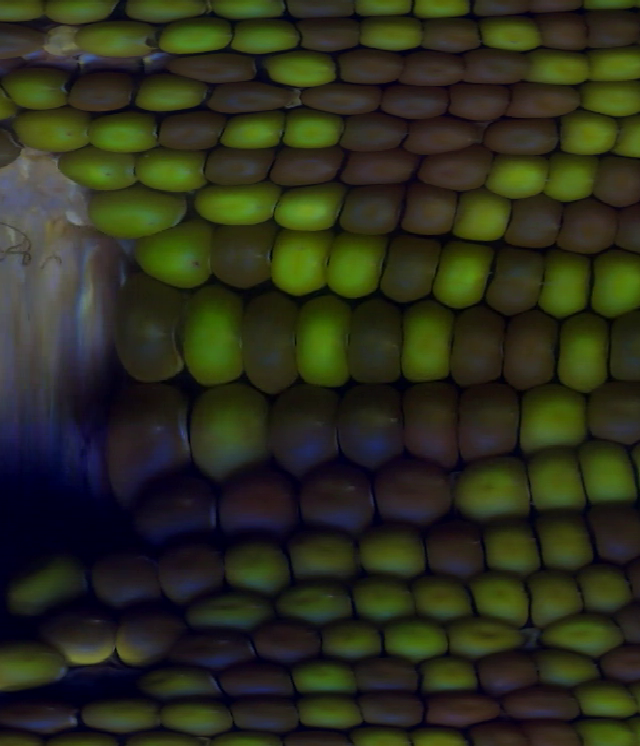fluorescent: (189, 389, 269, 469), (5, 552, 84, 618), (181, 294, 239, 382), (139, 223, 211, 292), (514, 382, 588, 442), (301, 295, 347, 389), (249, 39, 333, 89), (455, 459, 527, 517), (572, 440, 636, 505), (82, 191, 186, 230), (324, 233, 389, 295), (527, 450, 586, 516), (270, 229, 326, 294), (537, 247, 589, 317), (450, 611, 528, 656), (405, 305, 452, 379), (227, 547, 299, 594), (82, 18, 160, 60), (195, 187, 276, 227), (139, 147, 205, 195), (363, 537, 444, 576), (556, 317, 601, 387), (53, 152, 131, 192), (542, 614, 624, 652), (13, 116, 91, 155), (453, 192, 513, 242), (275, 184, 340, 230), (157, 14, 228, 56), (482, 521, 539, 573), (270, 592, 350, 629), (527, 568, 582, 621), (469, 571, 531, 618), (0, 647, 69, 689), (594, 256, 640, 318), (536, 523, 599, 568), (347, 578, 411, 621), (191, 597, 272, 630), (160, 694, 231, 731), (8, 65, 65, 111), (91, 114, 153, 156), (473, 16, 543, 53), (285, 105, 340, 152), (544, 155, 595, 205), (231, 21, 298, 59), (444, 240, 481, 308), (79, 700, 160, 731), (134, 665, 217, 695), (381, 620, 449, 656), (557, 116, 615, 158), (221, 111, 285, 147), (491, 155, 546, 195), (360, 18, 428, 50), (326, 620, 386, 656), (536, 652, 591, 691), (578, 681, 639, 716), (579, 87, 640, 121), (307, 530, 360, 569), (415, 653, 473, 688), (44, 1, 112, 30), (585, 50, 640, 85), (579, 568, 627, 608), (134, 79, 192, 110), (578, 717, 640, 746), (295, 662, 356, 691), (534, 52, 588, 84), (124, 1, 209, 21), (298, 694, 357, 721), (415, 591, 463, 623), (215, 1, 286, 20), (0, 1, 47, 29), (405, 726, 457, 746), (347, 729, 407, 746)
nonfluorescent: (107, 388, 181, 478), (123, 279, 186, 379), (288, 462, 375, 530), (334, 387, 407, 468), (215, 462, 286, 540), (498, 308, 559, 395), (240, 297, 294, 392), (375, 468, 457, 530), (382, 230, 442, 305), (279, 384, 334, 460), (352, 300, 399, 384), (408, 378, 456, 460), (460, 388, 515, 459), (143, 475, 211, 531), (452, 304, 495, 385), (0, 685, 73, 731), (597, 304, 640, 381), (591, 376, 640, 443), (213, 229, 268, 288), (165, 620, 249, 658), (588, 502, 640, 562), (253, 610, 315, 660), (504, 685, 585, 723), (372, 84, 446, 124), (501, 250, 549, 311), (218, 692, 297, 729), (269, 147, 340, 187), (337, 185, 398, 231), (94, 549, 155, 594), (424, 524, 481, 572), (68, 79, 136, 118), (592, 152, 640, 207), (356, 688, 424, 726), (485, 649, 542, 694), (350, 653, 421, 689), (157, 58, 265, 81), (399, 192, 452, 237), (163, 545, 217, 589), (515, 192, 559, 245), (426, 685, 494, 718), (346, 116, 413, 149), (223, 653, 294, 684), (304, 84, 372, 116), (489, 124, 556, 156), (463, 711, 523, 746), (582, 16, 640, 52), (446, 91, 511, 123), (559, 210, 608, 252), (156, 110, 217, 143), (339, 149, 408, 178), (531, 14, 581, 52), (210, 84, 292, 107), (210, 145, 265, 179), (421, 160, 485, 189), (413, 123, 481, 149), (470, 53, 527, 84), (424, 18, 479, 49), (597, 646, 640, 682), (510, 88, 569, 114), (297, 29, 363, 52), (405, 60, 459, 88), (340, 55, 402, 76), (285, 1, 357, 18), (0, 20, 37, 53), (520, 724, 567, 746)
